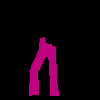pantaloni: (28, 36, 59, 96)
